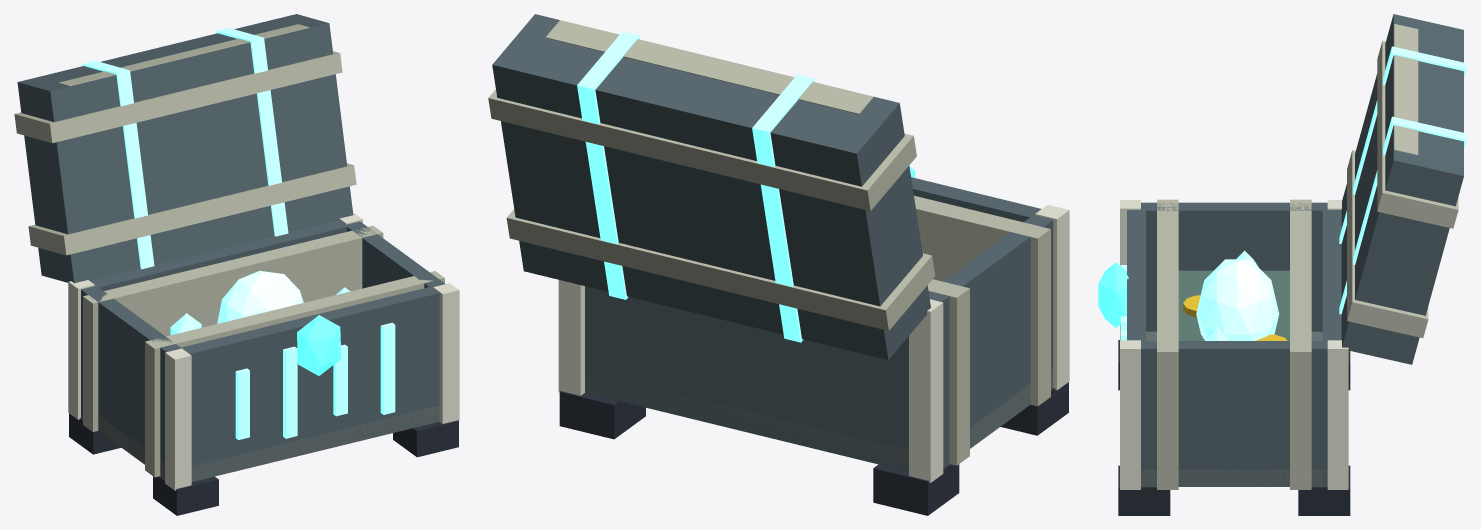
File: loot_chest_warded_open.glb
3 renders of one model, left to right at view 1: azimuth 30°, elevation 25°; view 2: azimuth 150°, elevation 25°; view 3: azimuth 270°, elevation 25°, orthographic. The views are drawn at different scales.
Parts seen in each view (by area): view 1: Ward_Lid.001, Ward_Body_Front.001, Ward_Band_2.001, Ward_Body_Left.001, Ward_Lid_Band_1.001, Ward_Lid_Band_2.001, Ward_Band_1.001, Ward_Body_Floor.001, Ward_Body_Back.001, Ward_Corner_1.001, Ward_Corner_2.001, Ward_Prize (+13 smaller); view 2: Ward_Lid.001, Ward_Body_Back.001, Ward_Body_Left.001, Ward_Lid_Band_2.001, Ward_Lid_Band_1.001, Ward_Band_1.001, Ward_Body_Floor.001, Ward_Lid_Lip.001, Ward_Corner_3.001, Ward_Lid_Rune_2.001, Ward_Lid_Rune_1.001, Ward_Band_2.001 (+6 smaller); view 3: Ward_Lid.001, Ward_Body_Right.001, Ward_Body_Left.001, Ward_Band_1.001, Ward_Band_2.001, Ward_Prize, Ward_Body_Back.001, Ward_Corner_4.001, Ward_Body_Front.001, Ward_Corner_2.001, Ward_Lid_Band_1.001, Ward_Lid_Band_2.001 (+9 smaller).
Boxes of the visible parts, left/top/right/bottom form: Ward_Lid.001: left=17, top=14, right=353, bottom=283; Ward_Body_Front.001: left=165, top=283, right=444, bottom=481; Ward_Band_2.001: left=83, top=225, right=383, bottom=431; Ward_Body_Left.001: left=83, top=287, right=180, bottom=477; Ward_Lid_Band_1.001: left=14, top=51, right=342, bottom=143; Ward_Lid_Band_2.001: left=28, top=163, right=356, bottom=255; Ward_Band_1.001: left=145, top=271, right=444, bottom=477; Ward_Body_Floor.001: left=98, top=405, right=439, bottom=481; Ward_Body_Back.001: left=81, top=220, right=361, bottom=418; Ward_Corner_1.001: left=165, top=348, right=191, bottom=490; Ward_Corner_2.001: left=433, top=283, right=459, bottom=423; Ward_Prize: left=217, top=270, right=303, bottom=323; Ward_Lid.001: left=492, top=14, right=930, bottom=359; Ward_Body_Back.001: left=585, top=286, right=942, bottom=471; Ward_Body_Left.001: left=928, top=217, right=1050, bottom=468; Ward_Lid_Band_2.001: left=506, top=209, right=935, bottom=330; Ward_Lid_Band_1.001: left=488, top=89, right=916, bottom=210; Ward_Band_1.001: left=914, top=195, right=1050, bottom=406; Ward_Body_Floor.001: left=585, top=367, right=1053, bottom=471; Ward_Lid_Lip.001: left=545, top=20, right=873, bottom=114; Ward_Corner_3.001: left=909, top=299, right=943, bottom=482; Ward_Lid_Rune_2.001: left=577, top=31, right=639, bottom=299; Ward_Lid_Rune_1.001: left=752, top=74, right=814, bottom=342; Ward_Band_2.001: left=927, top=279, right=969, bottom=465; Ward_Lid.001: left=1341, top=14, right=1463, bottom=364; Ward_Body_Right.001: left=1146, top=341, right=1322, bottom=486; Ward_Body_Left.001: left=1146, top=202, right=1322, bottom=331; Ward_Band_1.001: left=1157, top=199, right=1178, bottom=489; Ward_Band_2.001: left=1290, top=199, right=1311, bottom=489; Ward_Prize: left=1196, top=259, right=1279, bottom=340; Ward_Body_Back.001: left=1322, top=202, right=1341, bottom=486; Ward_Corner_4.001: left=1327, top=340, right=1348, bottom=489; Ward_Body_Front.001: left=1127, top=202, right=1145, bottom=486; Ward_Corner_2.001: left=1120, top=340, right=1140, bottom=489; Ward_Lid_Band_1.001: left=1377, top=40, right=1458, bottom=228; Ward_Lid_Band_2.001: left=1347, top=150, right=1428, bottom=337.
Bounding box in the file's own units: 1.04 × 1.14 × 1.06.
